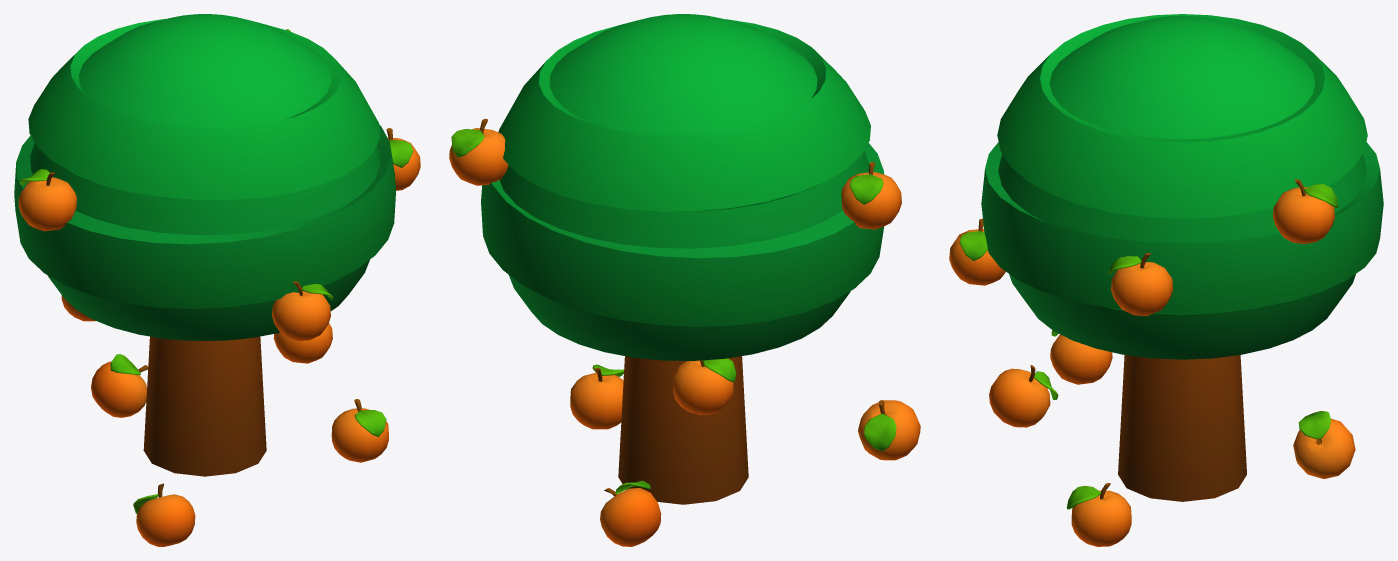
The model's file is Orange Tree.glb.
3 views of the same model, side by side, from view 1: azimuth 30°, elevation 25°; view 2: azimuth 150°, elevation 25°; view 3: azimuth 270°, elevation 25° (orthographic). The views are drawn at different scales.
Parts seen in each view (by area): view 1: Farm_Crop_Tree_02; view 2: Farm_Crop_Tree_02; view 3: Farm_Crop_Tree_02.
Boxes of the visible parts, x1,y1,x2,y2 form: Farm_Crop_Tree_02: (14,14,420,546); Farm_Crop_Tree_02: (449,14,920,546); Farm_Crop_Tree_02: (949,14,1383,546).
Size of the model in its own units: 2.31 by 2.46 by 2.15.
1 material, 1 textured.
